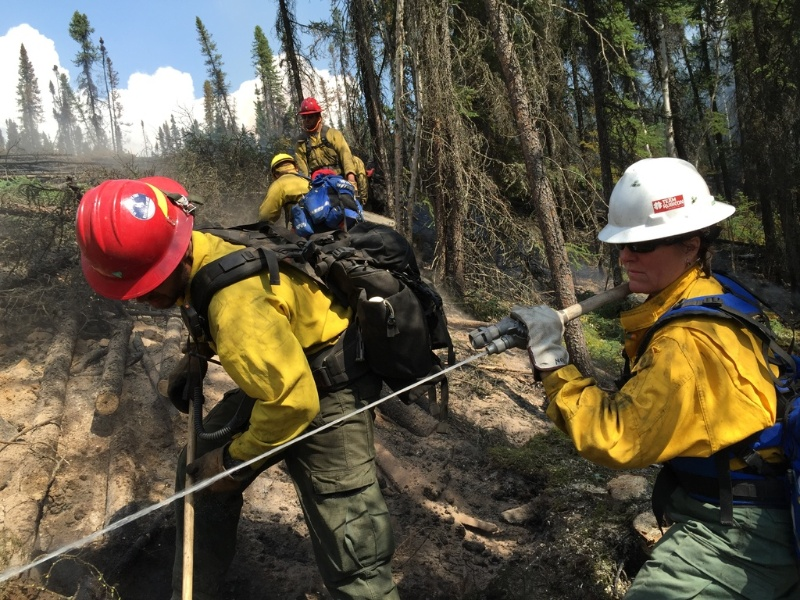Baret: (74, 178, 194, 300), (605, 157, 734, 239)
